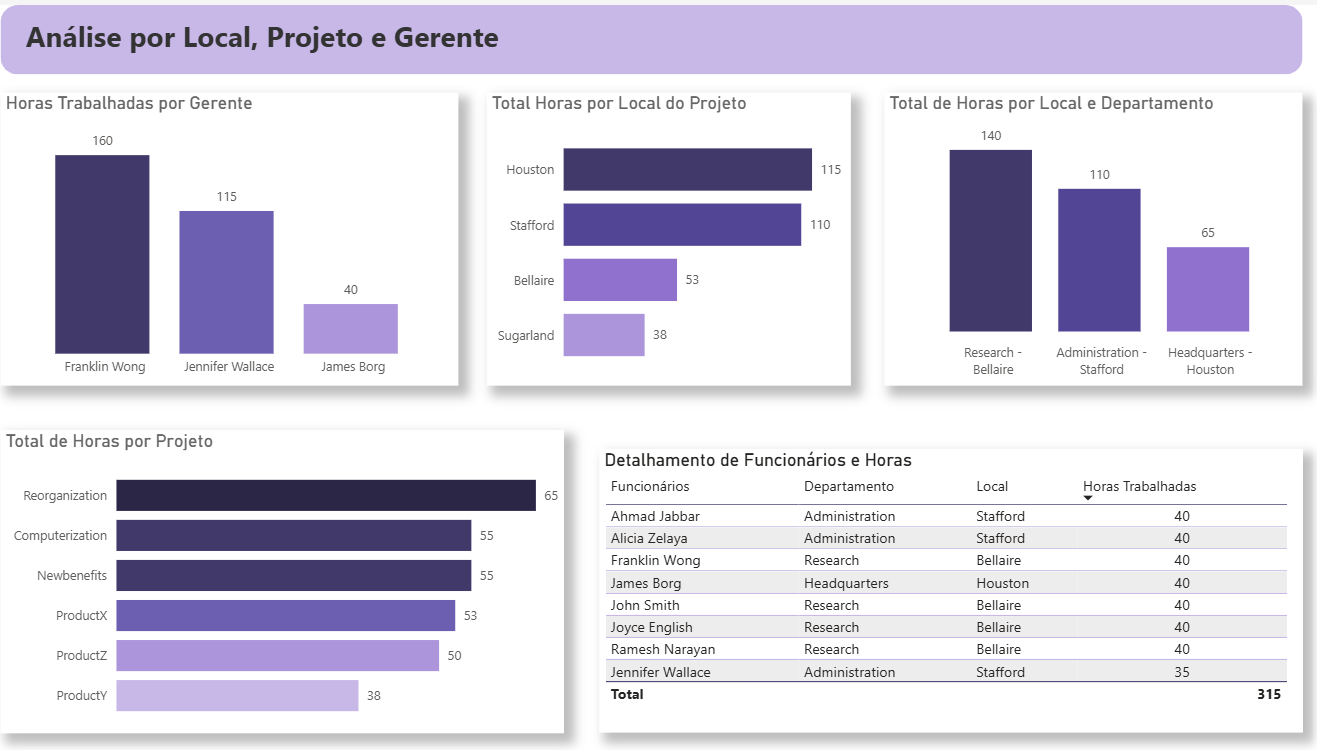

What the dashboard file says about the page in this screenshot:
{"tool":"powerbi","page":{"name":"Página 2","canvas":[1280,720],"ordinal":1},"visuals":[{"type":"columnChart","title":"Total de Horas por Local e Departamento","fields":{"Y":["Employee_Workhours.Hours by Department"],"Category":["Employee_Departamen.Departament Location"]},"box":[858.3,83,396.2,277.5],"z":0},{"type":"barChart","title":"Total Horas por Local do Projeto","fields":{"Y":["Employee_Workhours.Total Hours"],"Category":["Employee_Workhours.Project Location"]},"box":[482.1,83,344.8,277.5],"z":1000},{"type":"tableEx","title":"Detalhamento de Funcionários e Horas","fields":{"Values":["Employees.Full Name Func.","Employee_Departamen.Departament Name","Employee_Departamen.Dep Location","Sum(Employee_Workhours.Hours Worked)"]},"box":[587.9,420.6,666.6,268.9],"z":2000},{"type":"columnChart","title":"Horas Trabalhadas por Gerente","fields":{"Category":["Employees.Full Name Gerent"],"Y":["Employee_Workhours.Total Hours"]},"box":[21.5,83,433.4,277.5],"z":3000},{"type":"shape","box":[21.5,0,1233.1,65.8],"z":4000},{"type":"textbox","box":[40,5.7,483.5,60.1],"z":5000},{"type":"barChart","title":"Total de Horas por Projeto","fields":{"Category":["Employee_Workhours.Project Name"],"Y":["Employee_Workhours.Total Hours"]},"box":[21.5,402,533.6,287.5],"z":6000}]}

Visuals, with their boxes in screenshot pixels (x1, y1, x2, y2), scaled from the page's 1280x720 canvas onto the 1317x750 screenshot:
"Total de Horas por Local e Departamento" columnChart: <box>883,86,1291,376</box>
"Total Horas por Local do Projeto" barChart: <box>496,86,851,376</box>
"Detalhamento de Funcionários e Horas" tableEx: <box>605,438,1291,718</box>
"Horas Trabalhadas por Gerente" columnChart: <box>22,86,468,376</box>
shape: <box>22,0,1291,69</box>
textbox: <box>41,6,539,69</box>
"Total de Horas por Projeto" barChart: <box>22,419,571,718</box>
